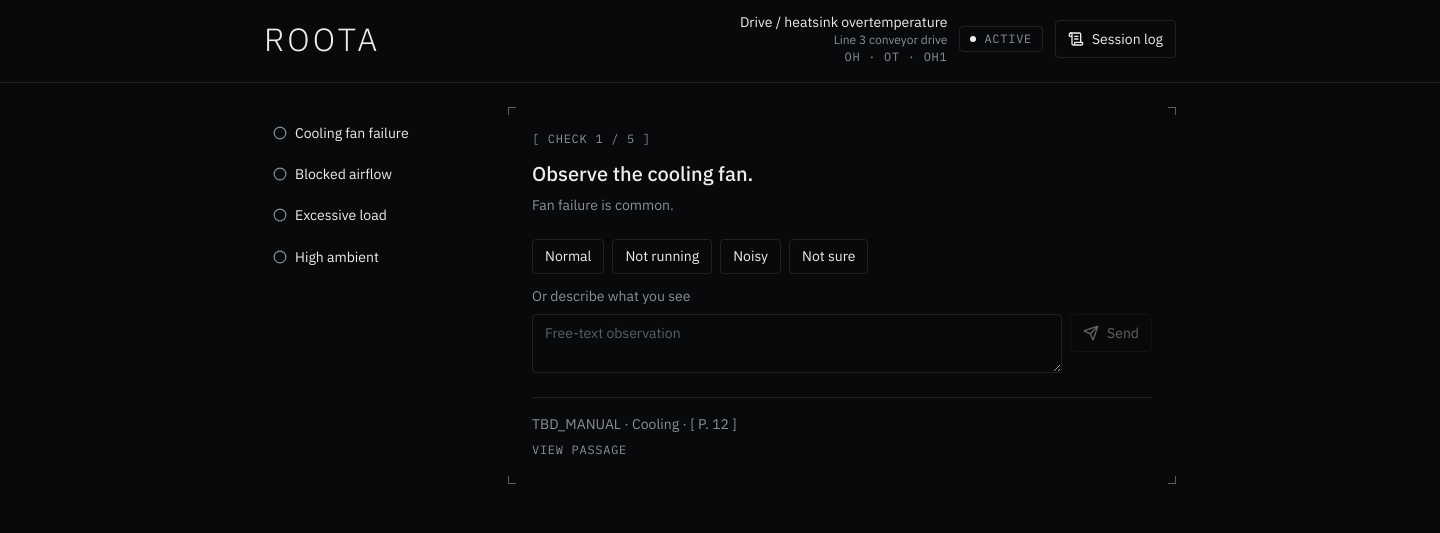
it: SessionScreen › submits an observation for the current check
Type "Fan is fine" into the text box labelled "Or describe what you see".
click(797, 343); type("Fan is fine")  # box left=532, top=314, right=1062, bottom=373
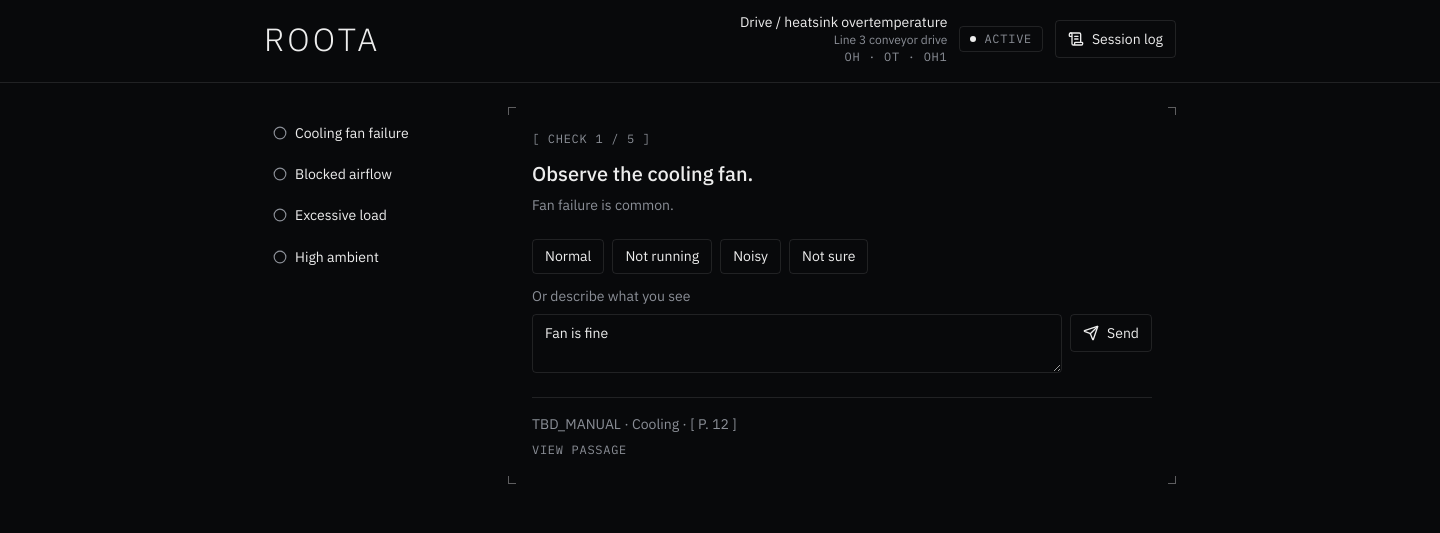
Click the button with aria-label "Submit observation".
click(1111, 333)  # box left=1070, top=314, right=1152, bottom=352
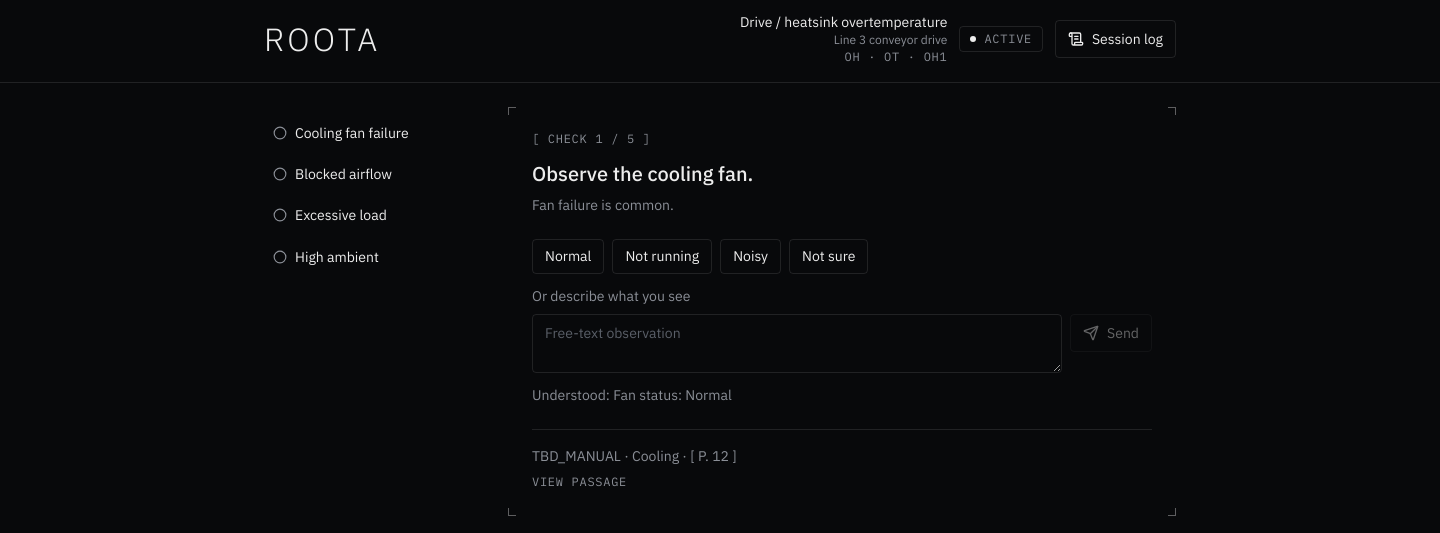
Result: the text "Understood: Fan status: Normal" is shown at left=532, top=386, right=732, bottom=404
